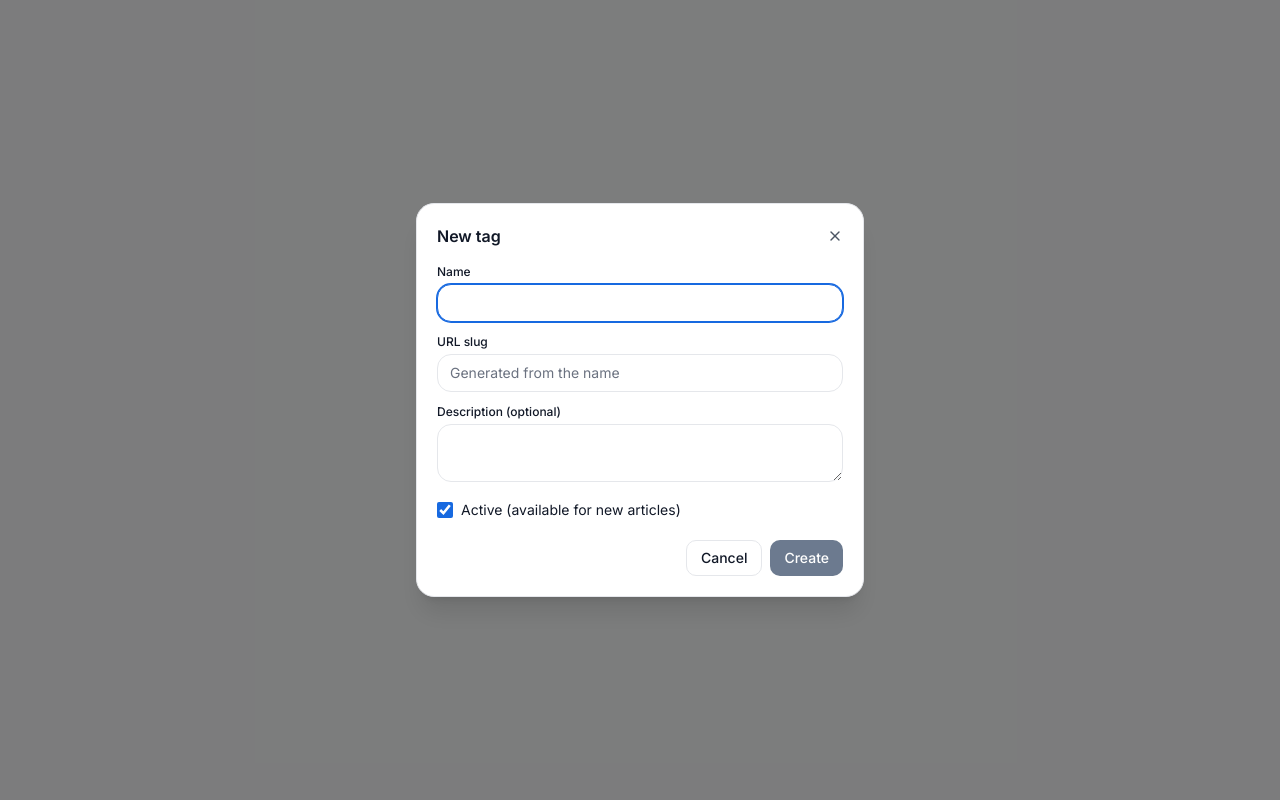
TaxonomyFormDialog › keeps the dialog open and the input intact when the server rejects it
Type "Scholarships" into the field labelled "Name". click: (640,303)
box: [437,284,843,322]
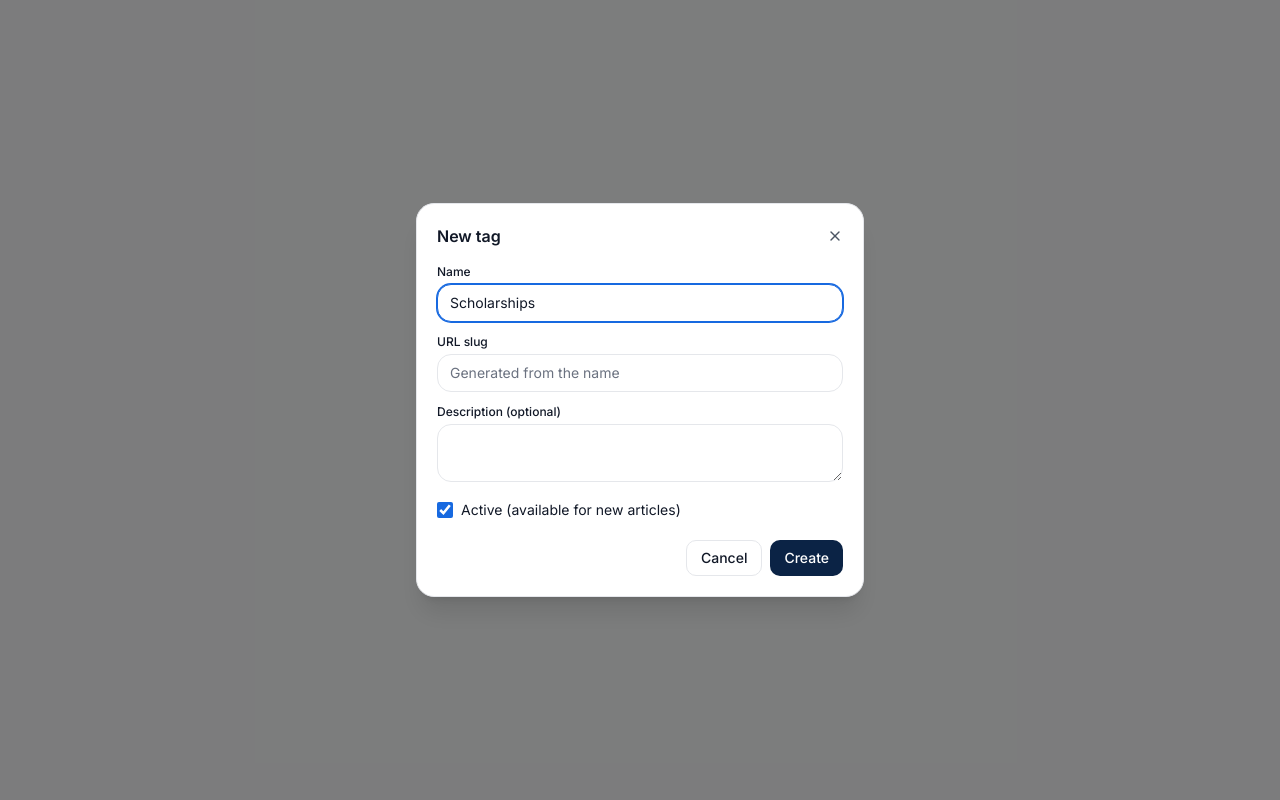
Click the button "Create". click: (807,558)
box: [770,540,843,576]
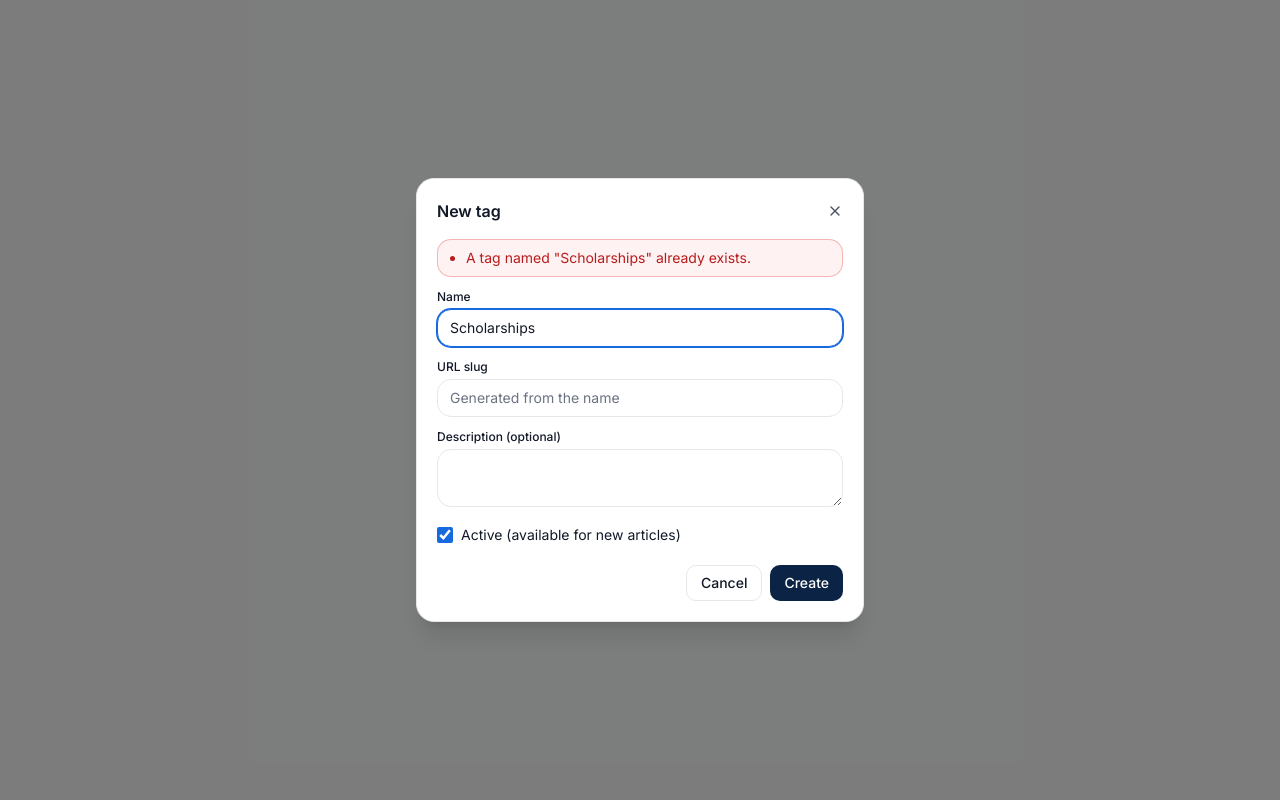
Now the message shows "already exists", box [466,249,751,266]
